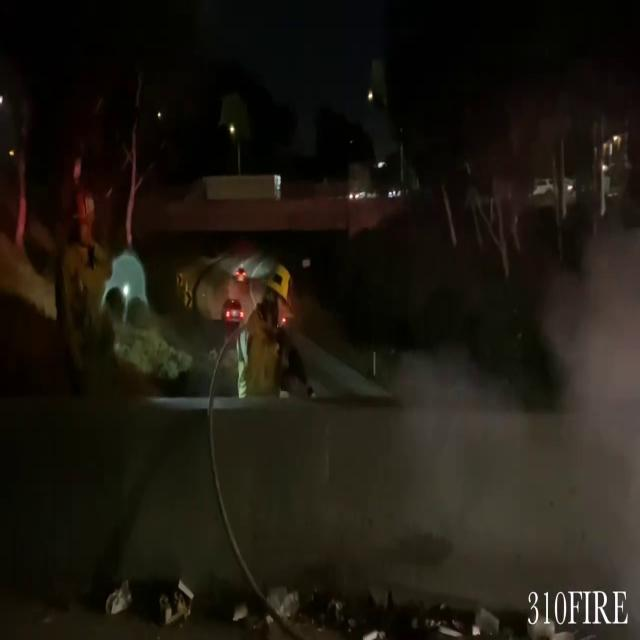Smoke: (404, 195, 640, 606)
